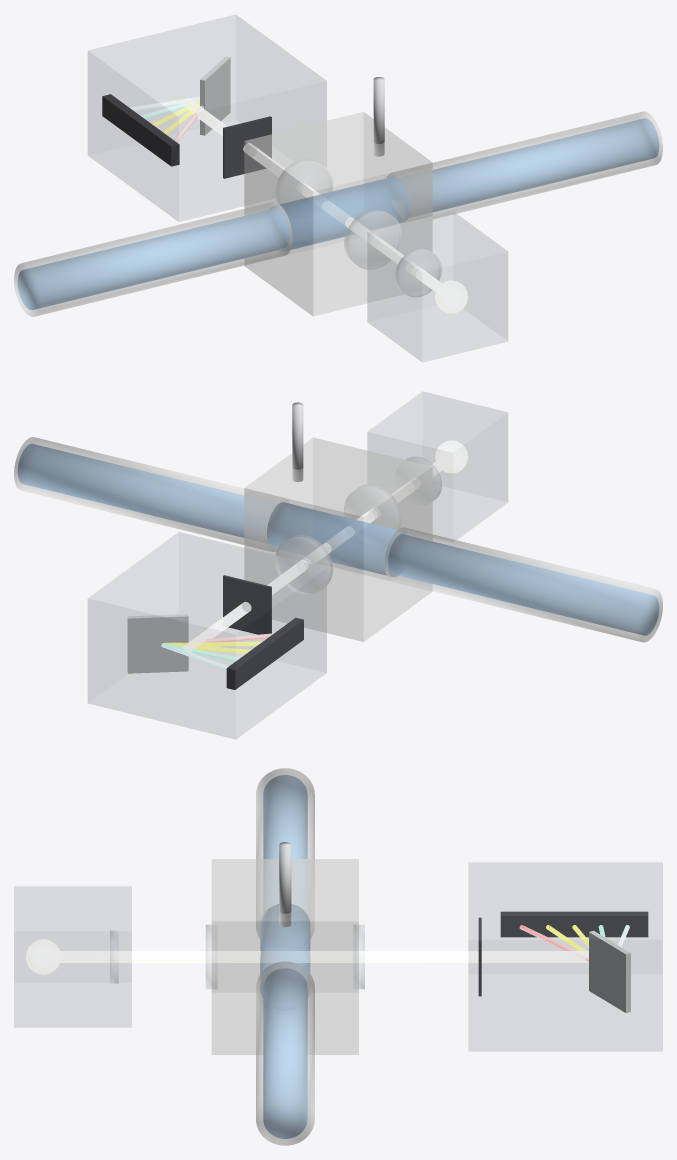
The model's file is absorb.glb.
3 renders of one model, top to bottom at view 1: azimuth 30°, elevation 25°; view 2: azimuth 150°, elevation 25°; view 3: azimuth 270°, elevation 25°, orthographic. The views are drawn at different scales.
Visible parts, largest first — view 1: 分光器外壳, 流通池, 光源外壳, 配管L, 配管R, 配管L_液, 配管R_液, 流通池_液, 光束, 入射窗, 狭缝, 检测器阵列 (+5 smaller); view 2: 分光器外壳, 流通池, 配管L, 光源外壳, 配管R, 配管L_液, 配管R_液, 流通池_液, 光栅, 光束, 出射窗, 狭缝 (+4 smaller); view 3: 分光器外壳, 流通池, 光源外壳, 配管R, 配管R_液, 光束, 配管L, 检测器阵列, 配管L_液, 流通池_液, 光栅, 测温元件 (+3 smaller).
Boxes of the visible parts, x1,y1,x2,y2 form: 分光器外壳: [88, 14, 326, 221]; 流通池: [244, 112, 432, 316]; 光源外壳: [367, 211, 507, 362]; 配管L: [14, 202, 292, 316]; 配管R: [387, 111, 662, 223]; 配管L_液: [17, 208, 288, 309]; 配管R_液: [432, 118, 659, 212]; 流通池_液: [270, 176, 409, 250]; 光束: [182, 98, 446, 295]; 入射窗: [344, 209, 401, 269]; 狭缝: [223, 116, 271, 178]; 检测器阵列: [102, 94, 179, 166]; 分光器外壳: [88, 532, 326, 739]; 流通池: [244, 437, 432, 641]; 配管L: [384, 527, 662, 642]; 光源外壳: [367, 391, 507, 541]; 配管R: [14, 437, 289, 551]; 配管L_液: [388, 534, 659, 635]; 配管R_液: [17, 444, 244, 537]; 流通池_液: [267, 502, 402, 576]; 光栅: [127, 614, 188, 673]; 光束: [182, 455, 451, 652]; 出射窗: [275, 535, 332, 594]; 狭缝: [223, 575, 271, 634]; 分光器外壳: [468, 862, 662, 1051]; 流通池: [211, 859, 358, 1054]; 光源外壳: [14, 886, 131, 1027]; 配管R: [256, 961, 314, 1145]; 配管R_液: [263, 968, 307, 1138]; 光束: [52, 951, 588, 962]; 配管L: [256, 768, 314, 938]; 检测器阵列: [500, 911, 648, 937]; 配管L_液: [263, 775, 307, 858]; 流通池_液: [260, 904, 310, 996]; 光栅: [589, 930, 630, 1013]; 测温元件: [279, 842, 291, 927].
Size of the model in its own units: 2.6 by 0.75 by 2.2.
